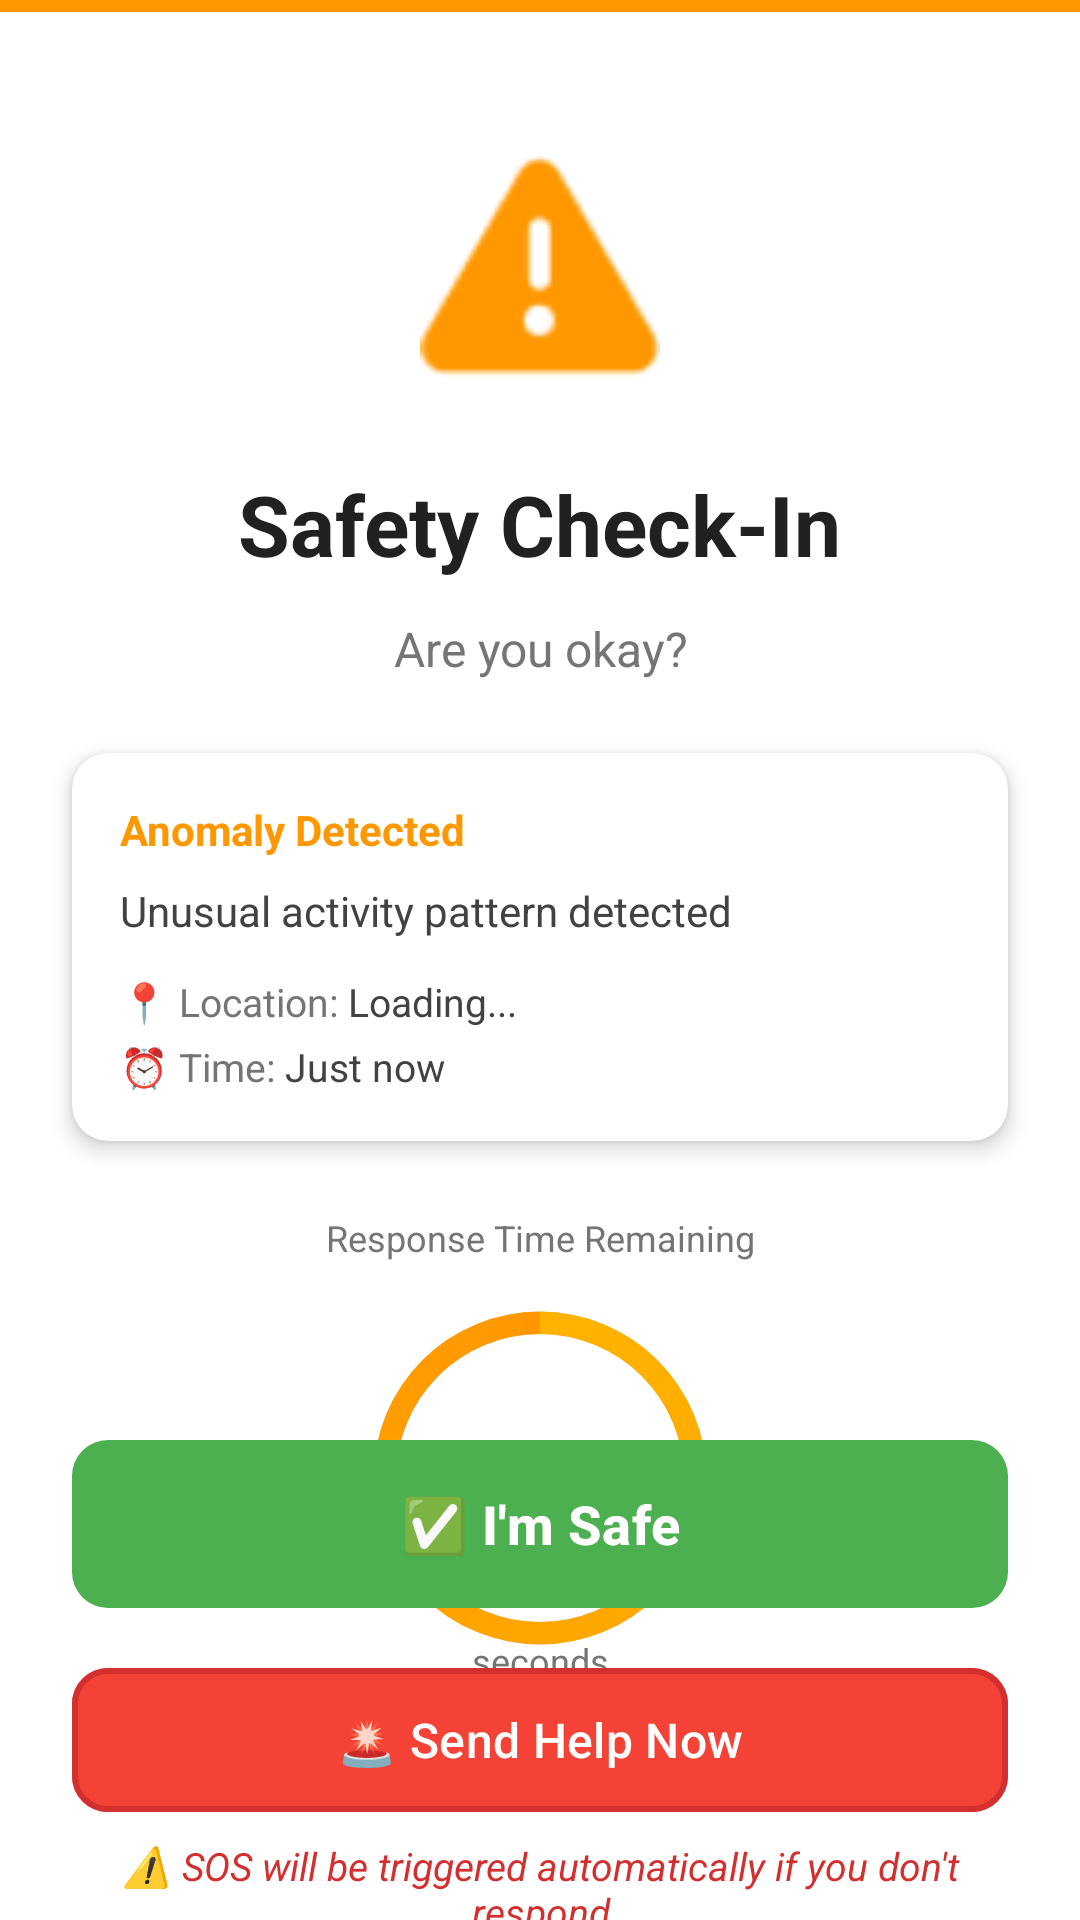

Icon click points for this 1080px x 1920px phone screenshot, format (x,y):
Alert icon: (540,265)
